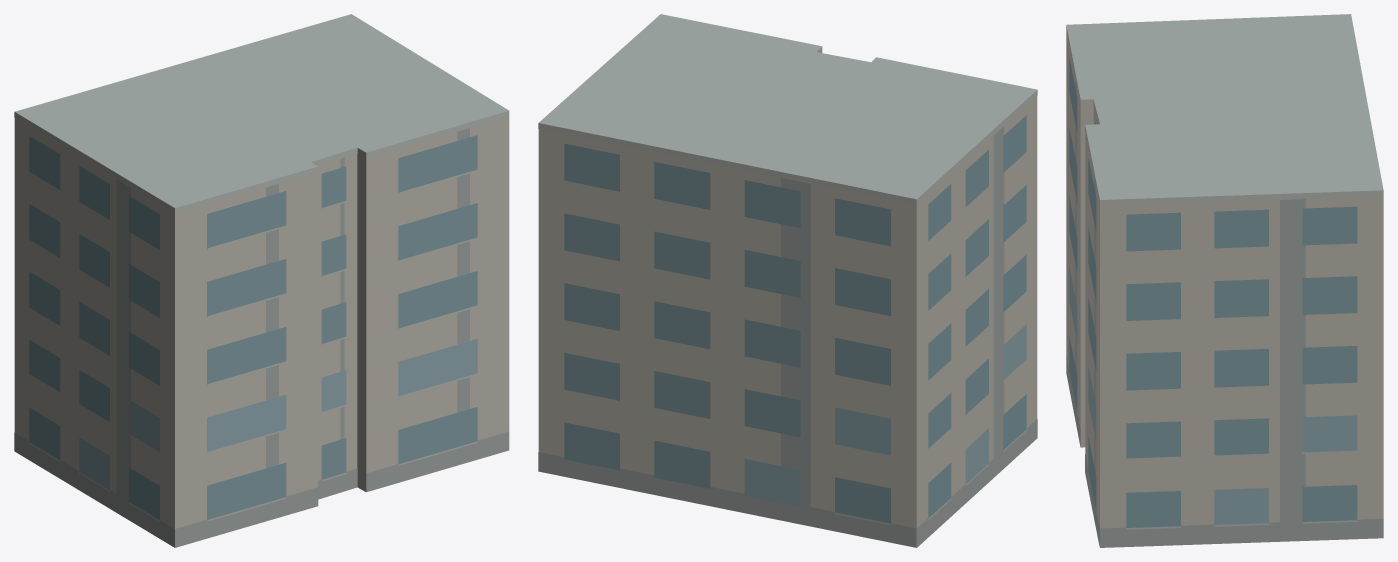
The model's file is survey-upis-32881672.glb.
3 renders of one model, left to right at view 1: azimuth 30°, elevation 25°; view 2: azimuth 150°, elevation 25°; view 3: azimuth 270°, elevation 25°, orthographic. The views are drawn at different scales.
Visible parts, largest first — view 1: survey-upis-32881672.tmp; view 2: survey-upis-32881672.tmp; view 3: survey-upis-32881672.tmp.
Part boxes in pixels (x1,y1,x2,y2): survey-upis-32881672.tmp: [14, 14, 509, 547]; survey-upis-32881672.tmp: [538, 14, 1037, 547]; survey-upis-32881672.tmp: [1066, 14, 1383, 547].
Bounding box in the file's own units: 16.15 × 14.07 × 11.64.
